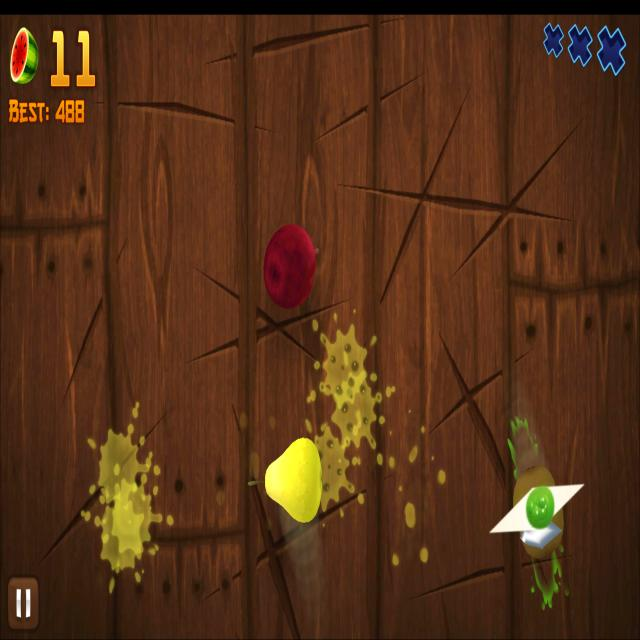fruit: (264, 435, 323, 524), (262, 224, 314, 308)
